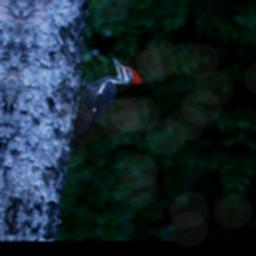Woodpecker: (65, 46, 146, 162)
